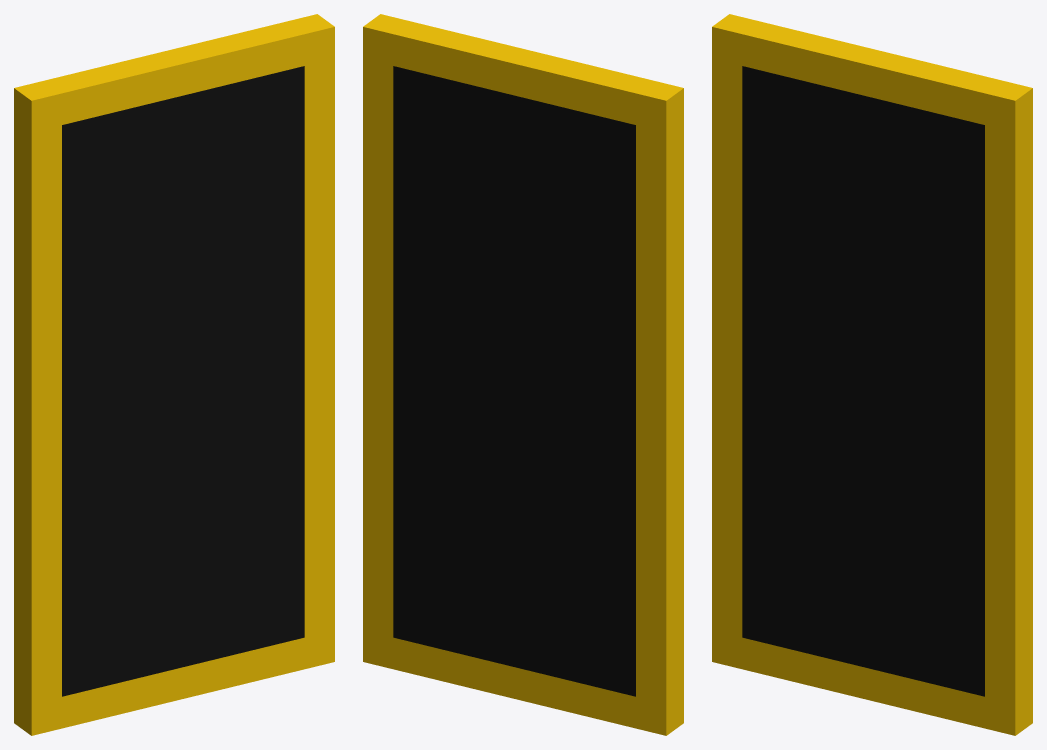
File: Panel.obj
3 renders of one model, left to right at view 1: azimuth 30°, elevation 25°; view 2: azimuth 150°, elevation 25°; view 3: azimuth 330°, elevation 25°, orthographic.
Size of the model in its own units: 1 by 2 by 0.1.
1 material, 1 textured.
